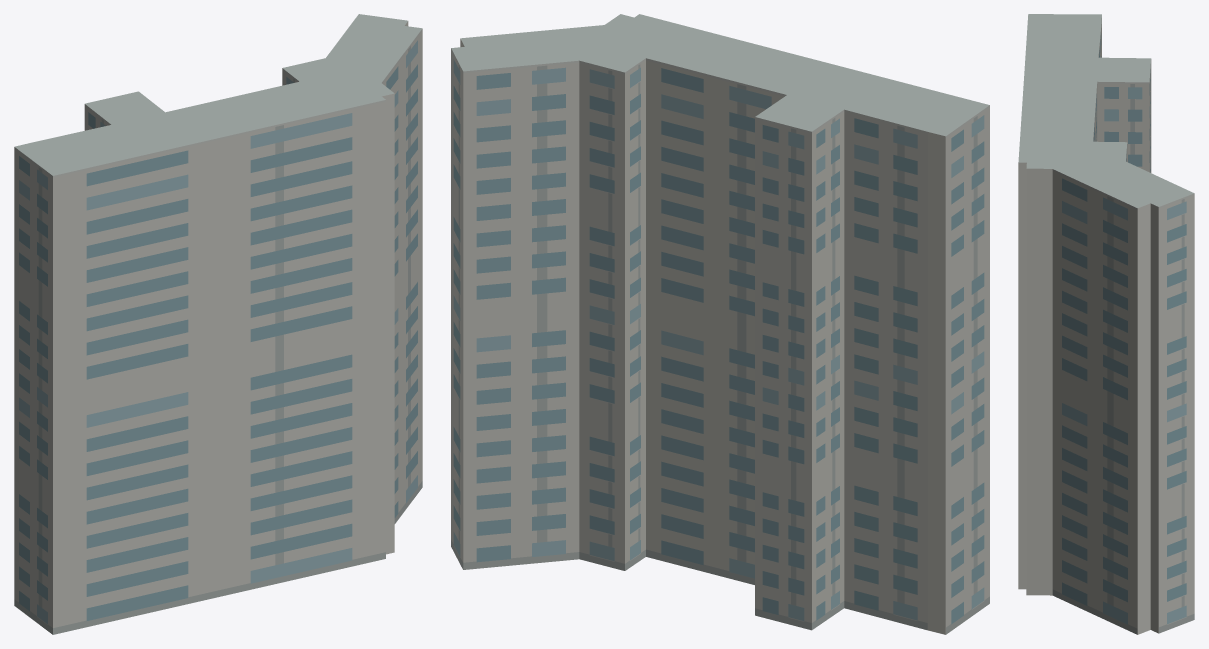
The model's file is residential-950fe29a-c4ae-44d9-9377-da22b1b8ac3d.glb.
3 views of the same model, side by side, from view 1: azimuth 30°, elevation 25°; view 2: azimuth 150°, elevation 25°; view 3: azimuth 270°, elevation 25° (orthographic). The views are drawn at different scales.
Parts seen in each view (by area): view 1: residential-950fe29a-c4ae-44d9-9377-da22b1b8ac3d.tmp; view 2: residential-950fe29a-c4ae-44d9-9377-da22b1b8ac3d.tmp; view 3: residential-950fe29a-c4ae-44d9-9377-da22b1b8ac3d.tmp.
Part boxes in pixels (box(x1,y1,x2,y2)): residential-950fe29a-c4ae-44d9-9377-da22b1b8ac3d.tmp: box(14, 14, 422, 634); residential-950fe29a-c4ae-44d9-9377-da22b1b8ac3d.tmp: box(451, 14, 989, 634); residential-950fe29a-c4ae-44d9-9377-da22b1b8ac3d.tmp: box(1018, 14, 1194, 634).
Bounding box in the file's own units: 60.6 × 62 × 23.21.
